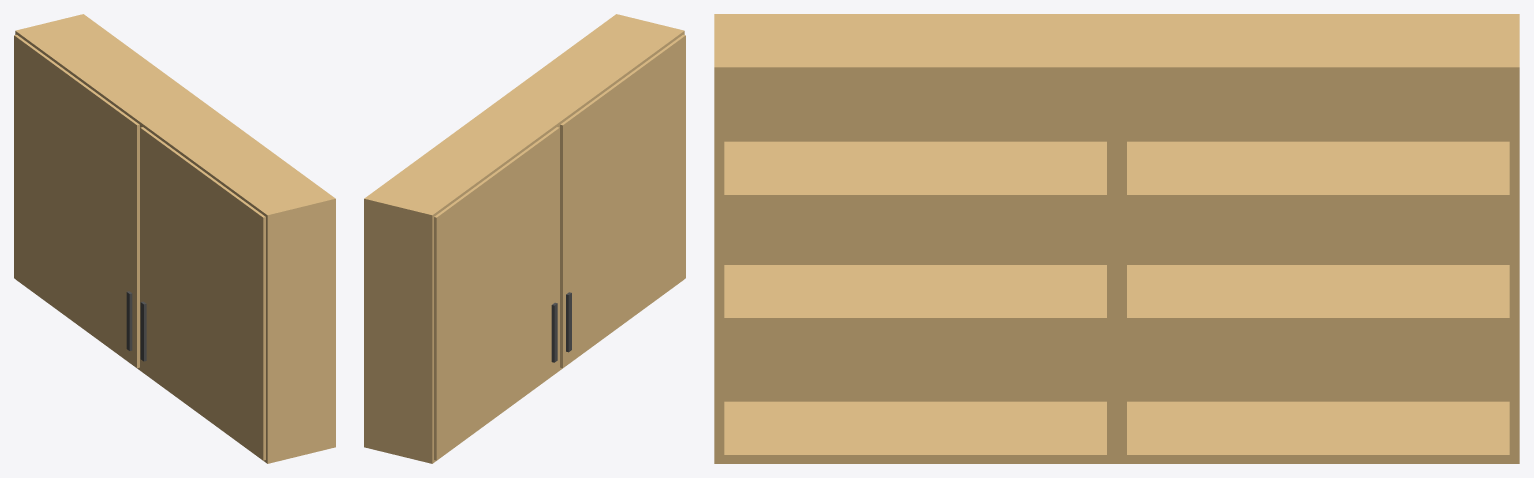
File: cabinets-by-ethan-fischer-esSZxVYLKnF.glb
3 renders of one model, left to right at view 1: azimuth 30°, elevation 25°; view 2: azimuth 150°, elevation 25°; view 3: azimuth 270°, elevation 25°, orthographic. The views are drawn at different scales.
Visible parts, largest first — view 1: group542023393, group960615600, group691010162, group1594514844, group902927166, group697472426, group2060640519, group49163445; view 2: group542023393, group960615600, group760577034, group902927166, group1594514844, group1375037183, group49163445, group2060640519; view 3: group960615600, group542023393, group902927166, group1729371408, group499639715, group1594514844, group1081866414, group907665417, group338693900, group279274495, group691010162, group760577034 (+2 smaller).
Part boxes in pixels (left/top/right/bottom): group542023393: left=14, top=34, right=139, bottom=368; group960615600: left=140, top=127, right=265, bottom=460; group691010162: left=264, top=196, right=335, bottom=463; group1594514844: left=18, top=16, right=205, bottom=122; group902927166: left=144, top=108, right=332, bottom=215; group697472426: left=138, top=104, right=208, bottom=370; group2060640519: left=140, top=301, right=146, bottom=361; group49163445: left=126, top=291, right=132, bottom=350; group542023393: left=434, top=127, right=559, bottom=460; group960615600: left=560, top=34, right=685, bottom=368; group760577034: left=364, top=196, right=435, bottom=463; group902927166: left=494, top=16, right=681, bottom=122; group1594514844: left=367, top=108, right=555, bottom=215; group1375037183: left=491, top=104, right=561, bottom=370; group49163445: left=551, top=302, right=557, bottom=362; group2060640519: left=566, top=292, right=571, bottom=352; group960615600: left=724, top=76, right=1106, bottom=401; group542023393: left=1127, top=76, right=1509, bottom=401; group902927166: left=724, top=14, right=1106, bottom=76; group1729371408: left=724, top=401, right=1106, bottom=463; group499639715: left=724, top=141, right=1106, bottom=203; group1594514844: left=1127, top=14, right=1509, bottom=76; group1081866414: left=1127, top=141, right=1509, bottom=203; group907665417: left=1127, top=401, right=1509, bottom=463; group338693900: left=724, top=265, right=1106, bottom=326; group279274495: left=1127, top=265, right=1509, bottom=326; group691010162: left=714, top=14, right=724, bottom=463; group760577034: left=1509, top=14, right=1519, bottom=463.
Size of the model in its own units: 0.27 by 0.87 by 1.6.
